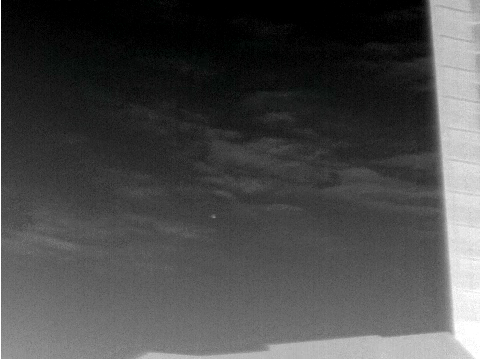dim target: (203, 206, 224, 226)
